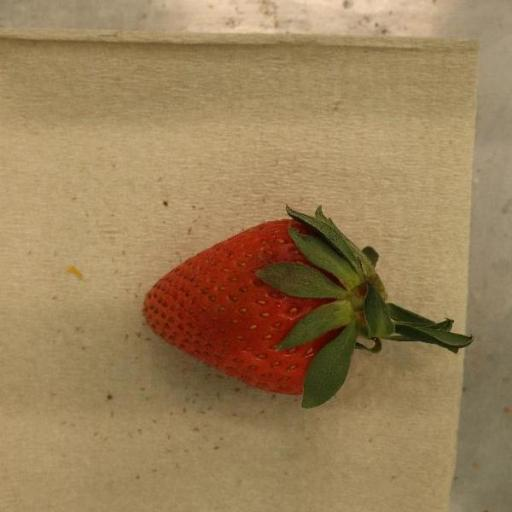Strawberry: (142, 207, 475, 410)
